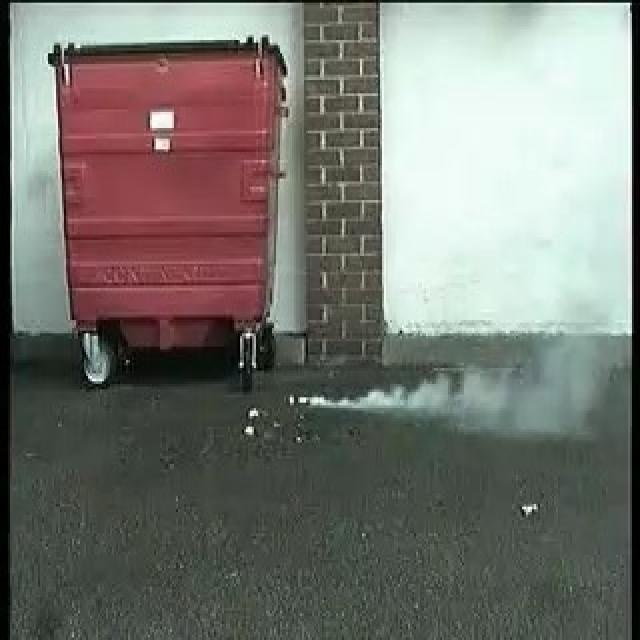smoke: (298, 362, 503, 428)
